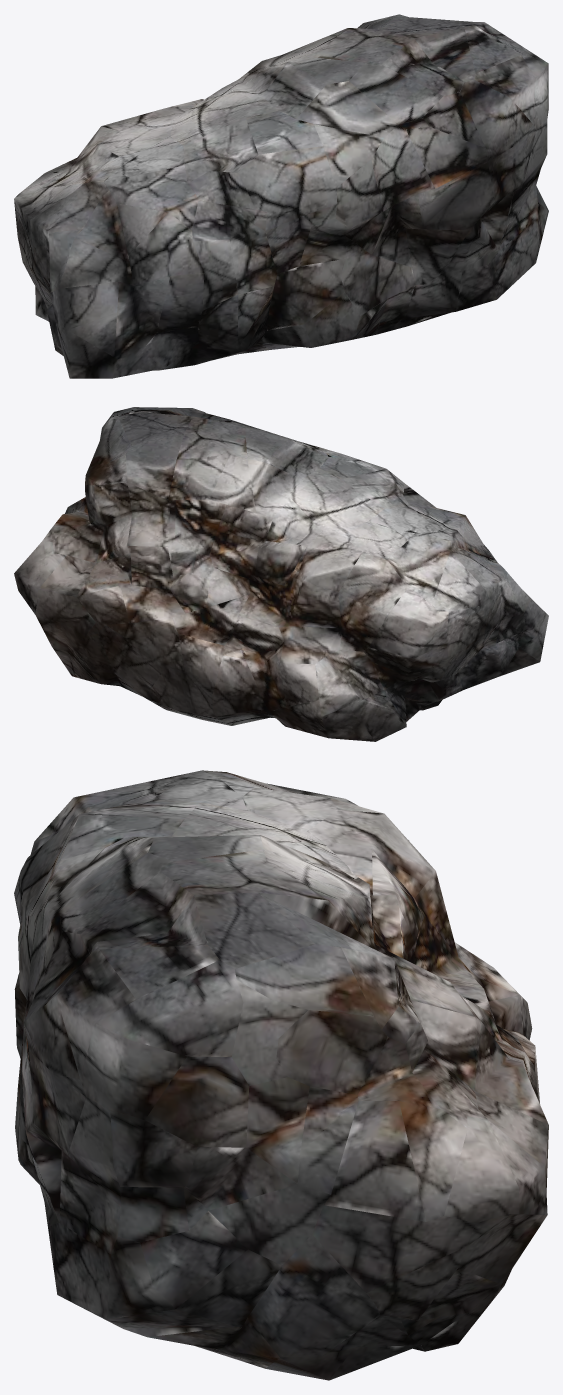
File: rock-sandstone.glb
3 renders of one model, top to bottom at view 1: azimuth 30°, elevation 25°; view 2: azimuth 150°, elevation 25°; view 3: azimuth 270°, elevation 25°, orthographic. The views are drawn at different scales.
Size of the model in its own units: 1.89 by 1 by 1.11.
1 material, 1 textured.
